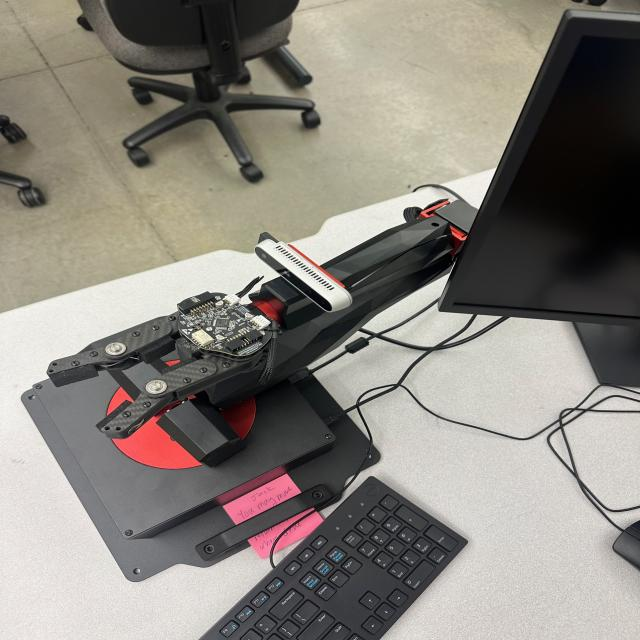monitor: (434, 8, 640, 329)
robotic-arm: (40, 190, 504, 468)
